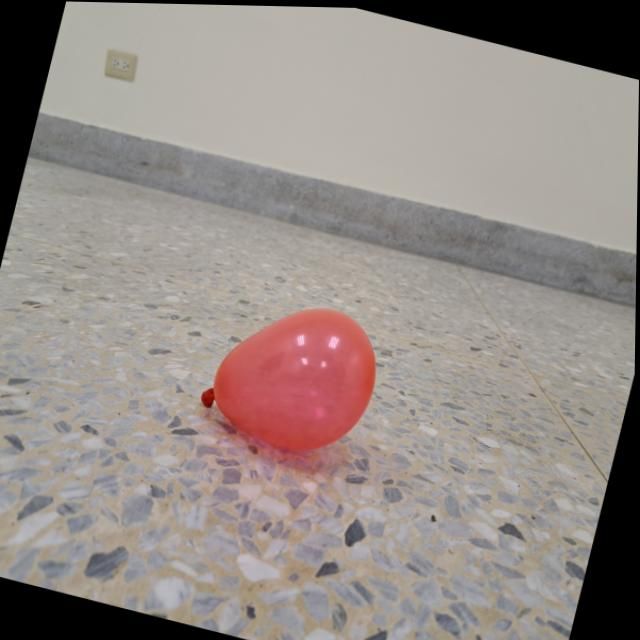red: (192, 280, 392, 469)
